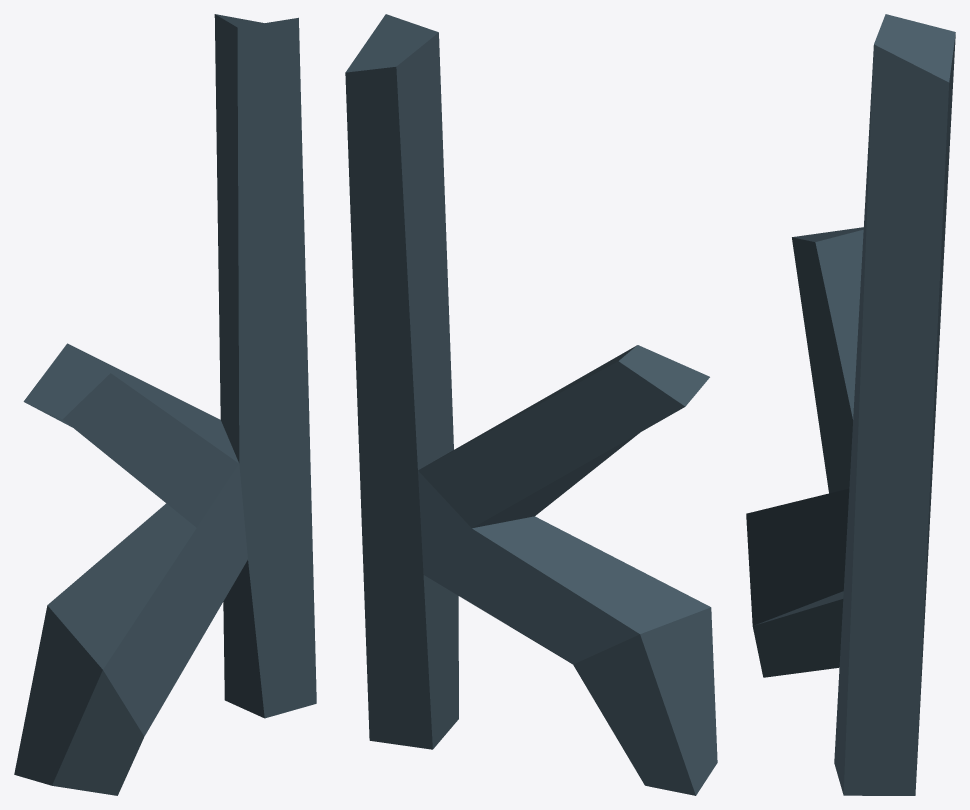
File: lowercase-l.glb
3 views of the same model, side by side, from view 1: azimuth 30°, elevation 25°; view 2: azimuth 150°, elevation 25°; view 3: azimuth 270°, elevation 25° (orthographic). The views are drawn at different scales.
Bounding box in the file's own units: 0.1744 × 0.3866 × 0.0969.
